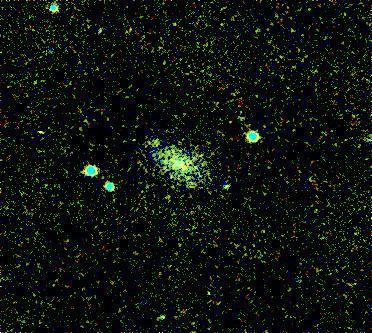star: (136, 128, 166, 158)
